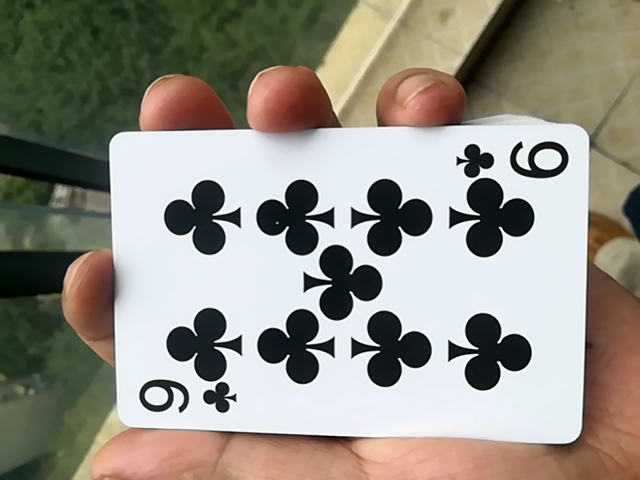mh 9: (96, 122, 586, 452)
